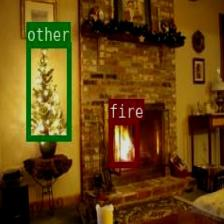fire: (108, 118, 139, 166)
